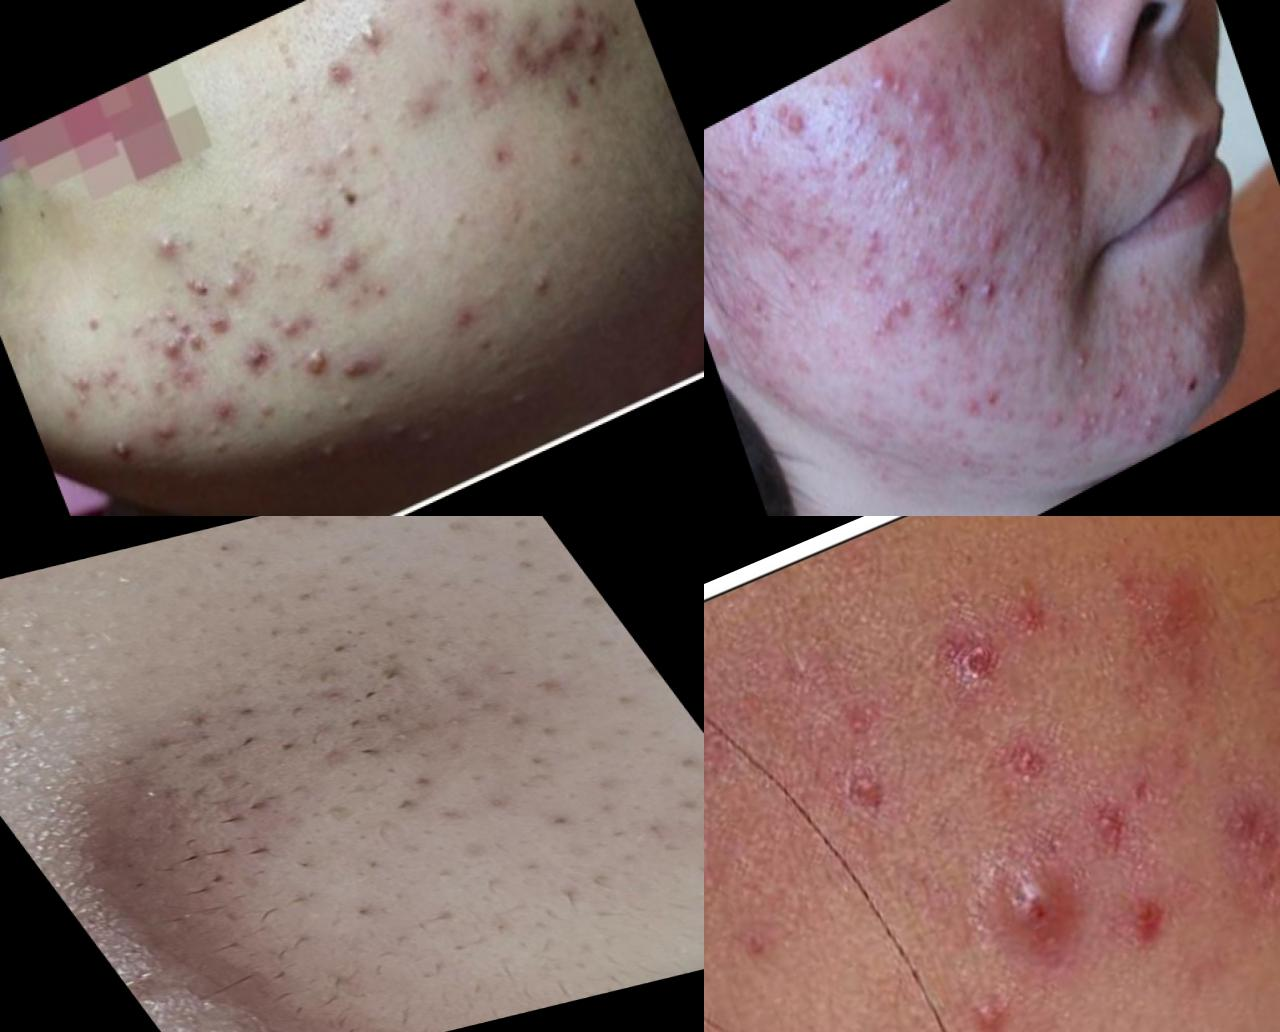acne_scars: (509, 17, 605, 92)
blackhead: (233, 626, 499, 761), (126, 697, 244, 763), (192, 527, 274, 580)
cystic: (949, 818, 1118, 1009), (1019, 114, 1068, 188)
papular: (901, 80, 966, 176), (765, 83, 829, 161), (766, 195, 818, 267), (326, 337, 387, 395), (844, 221, 896, 287), (456, 40, 512, 99), (327, 239, 387, 287), (233, 328, 282, 385), (967, 258, 1014, 319), (956, 378, 1007, 429), (295, 203, 349, 250), (878, 122, 918, 180), (1099, 374, 1142, 426), (451, 1, 500, 46), (1127, 281, 1171, 332), (869, 57, 909, 111), (154, 335, 199, 380), (438, 297, 483, 340), (145, 411, 189, 454), (1000, 269, 1040, 316), (892, 173, 929, 222), (85, 352, 127, 396), (241, 391, 284, 433), (204, 391, 244, 435), (1015, 227, 1052, 273), (269, 305, 311, 345), (904, 236, 936, 277), (208, 310, 237, 353), (843, 148, 872, 188)
purulent: (1125, 79, 1185, 148), (958, 979, 1033, 1032), (345, 3, 401, 71), (1048, 203, 1100, 265), (1060, 330, 1113, 389), (136, 220, 192, 275), (975, 213, 1019, 274), (1129, 402, 1178, 453), (294, 338, 343, 385), (1204, 354, 1243, 400), (100, 429, 140, 471), (1155, 338, 1192, 382)
sebo-crystan-conglo: (705, 644, 744, 801), (927, 264, 988, 349), (1062, 397, 1123, 467), (868, 280, 921, 346)
whitehead: (211, 241, 276, 316), (433, 194, 492, 245), (519, 260, 568, 318), (123, 296, 183, 343), (269, 72, 319, 128), (229, 182, 276, 242), (465, 323, 517, 376), (382, 83, 423, 131), (62, 363, 102, 411), (325, 131, 365, 170), (202, 421, 235, 464), (378, 409, 412, 448), (352, 397, 384, 433), (417, 419, 451, 452), (100, 380, 133, 414), (332, 385, 368, 411), (342, 77, 369, 111), (317, 439, 344, 467)
